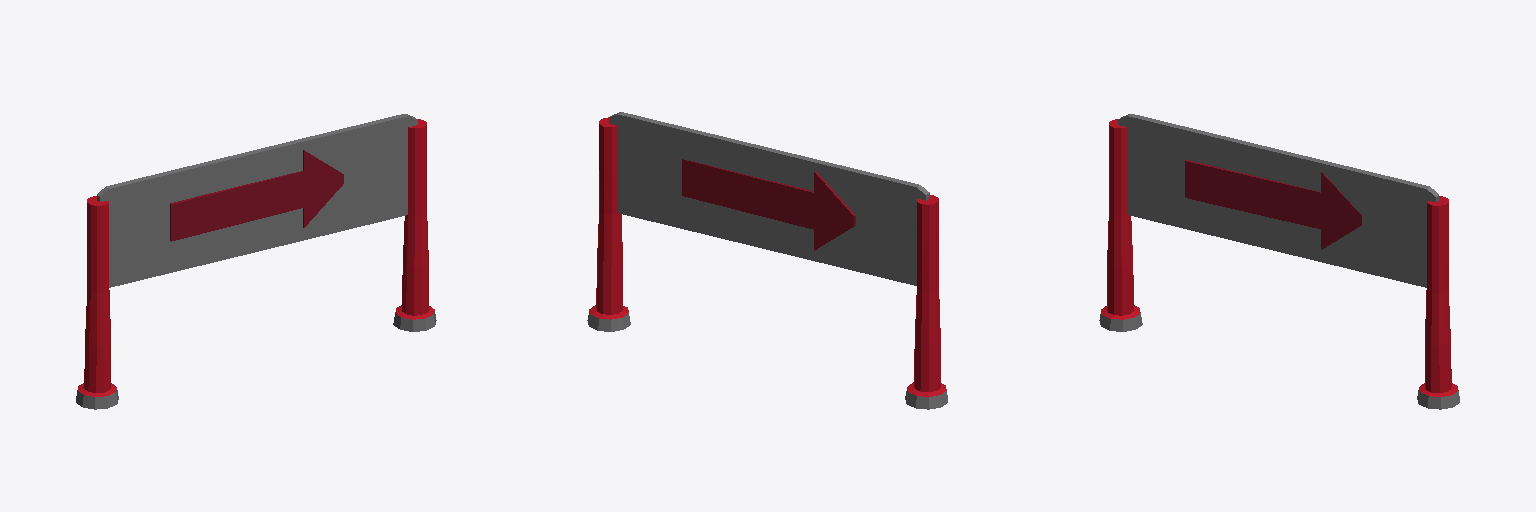
3 views of the same model, side by side, from view 1: azimuth 30°, elevation 25°; view 2: azimuth 150°, elevation 25°; view 3: azimuth 330°, elevation 25° (orthographic).
Visible parts, largest first — view 1: Direction; view 2: Direction; view 3: Direction.
Boxes of the visible parts, box(x1,y1,x2,y2) form: Direction: box(76, 114, 436, 409); Direction: box(587, 112, 947, 409); Direction: box(1099, 114, 1459, 409).
Bounding box in the file's own units: 3.09 × 1.76 × 0.3358.
2 materials, 1 textured.